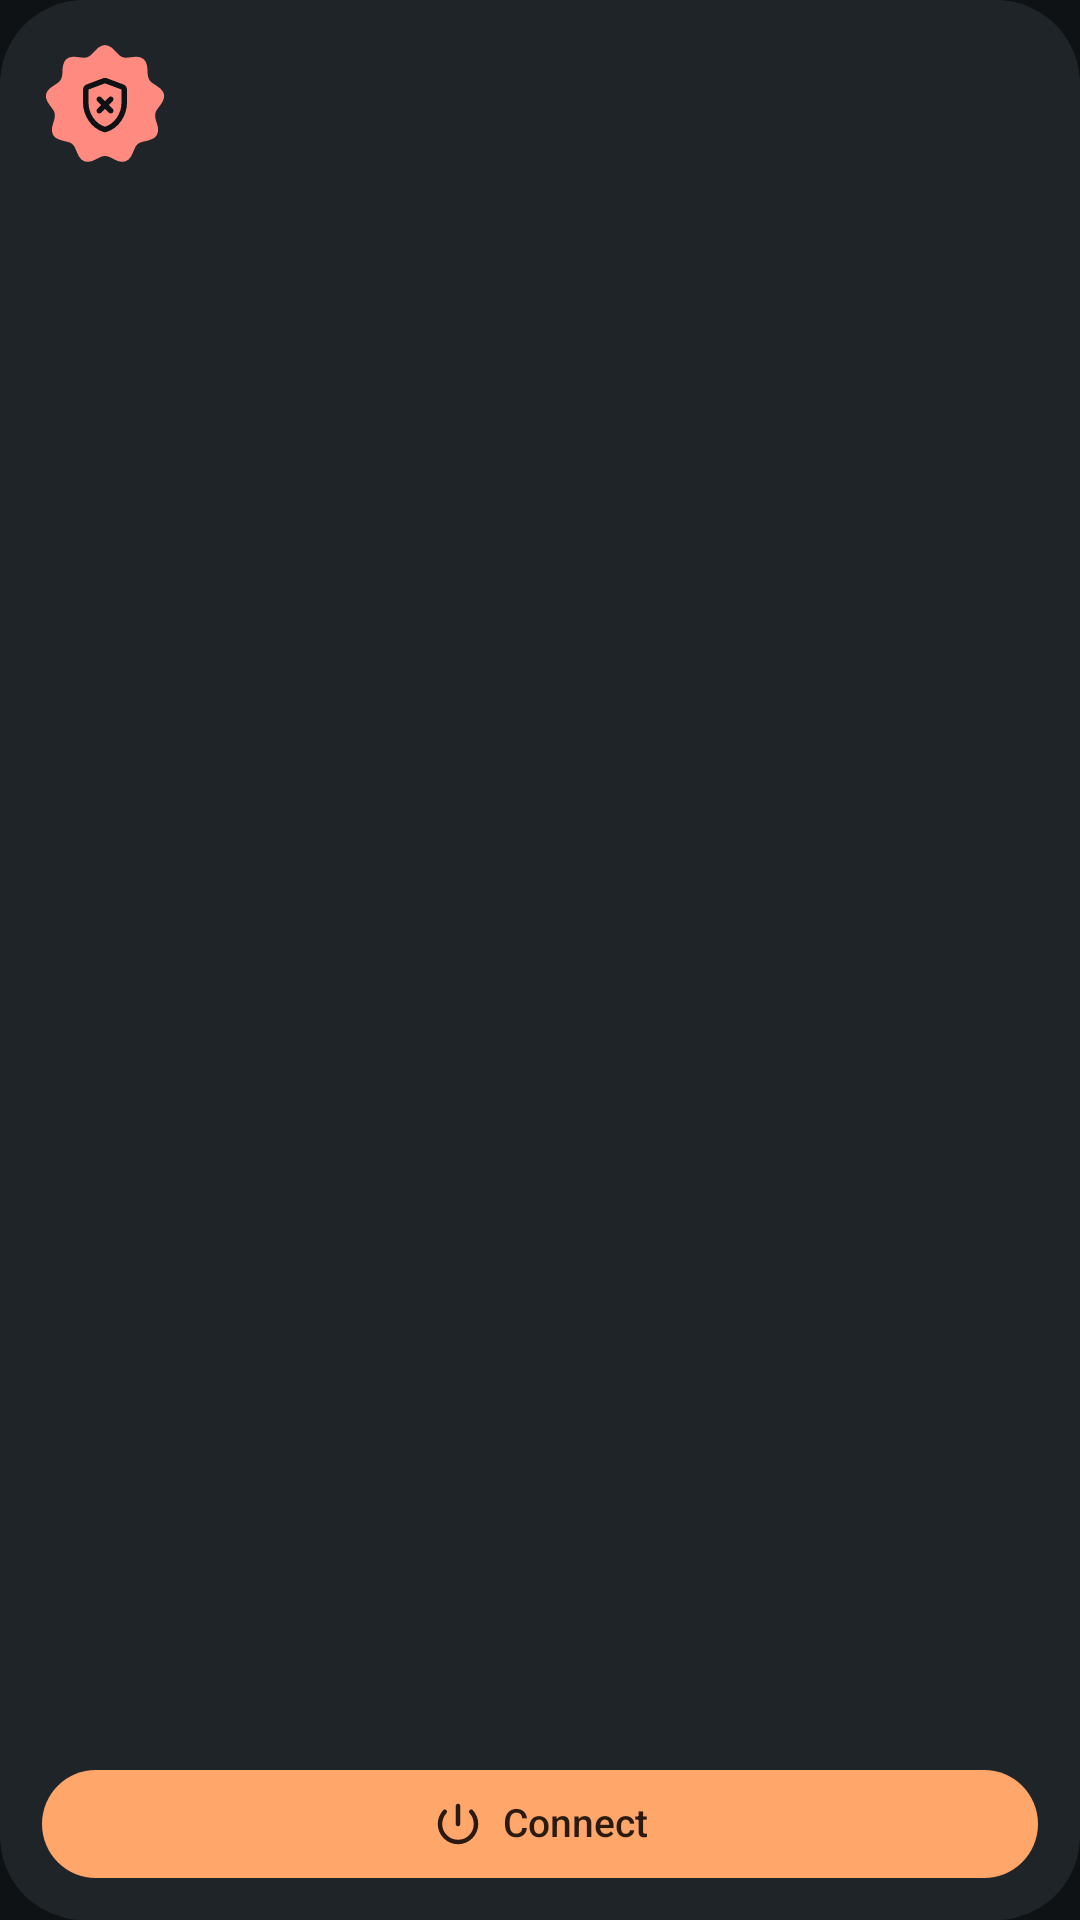

Screen size 1080x1920. Icon name, then its center in pixels as point (x, y):
power: point (458, 1824)
